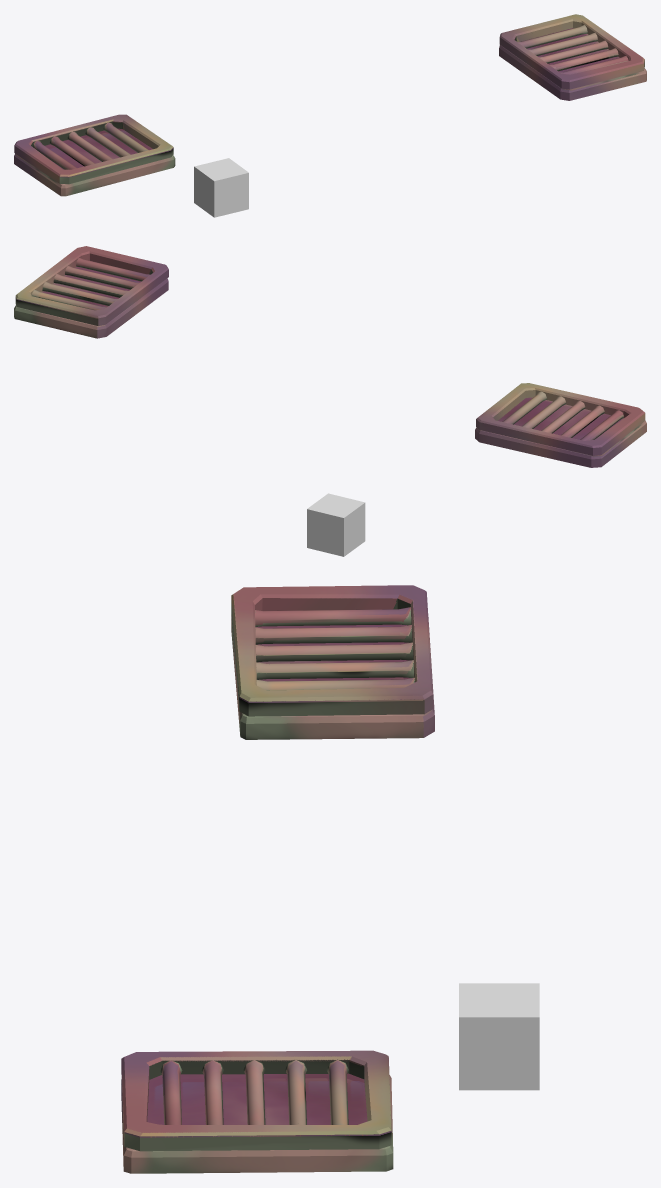
File: award-floor003.fbx
3 views of the same model, one above another, from view 1: azimuth 30°, elevation 25°; view 2: azimuth 150°, elevation 25°; view 3: azimuth 270°, elevation 25° (orthographic). The views are drawn at different scales.
Visible parts, largest first — view 1: Cylinder.015, Cylinder.017, award-floor003; view 2: Cylinder.015, Cylinder.017, award-floor003; view 3: Cylinder.017, Cylinder.015, award-floor003.
Boxes of the visible parts, box(x1,y1,x2,y2) form: Cylinder.015: box(14, 114, 175, 196); Cylinder.017: box(499, 14, 646, 100); award-floor003: box(194, 158, 248, 217); Cylinder.015: box(475, 383, 646, 467); Cylinder.017: box(14, 246, 168, 338); award-floor003: box(307, 493, 365, 556); Cylinder.017: box(121, 1050, 393, 1173); Cylinder.015: box(231, 585, 434, 739); award-floor003: box(459, 983, 539, 1090).
Size of the model in its own units: 1273 by 288 by 410.
